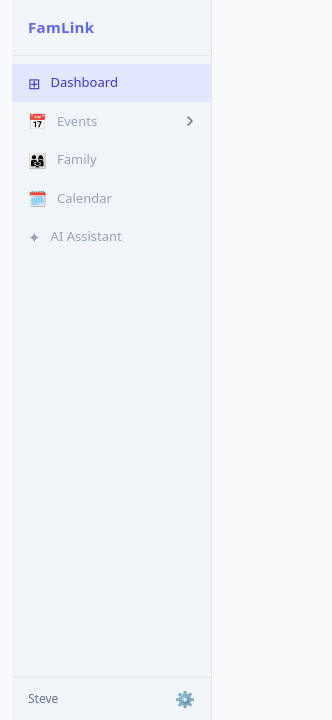
Sidebar › clicking the toggle expands the section
Click the button "📅 Events".
click(112, 121)  # box [12,102,211,140]
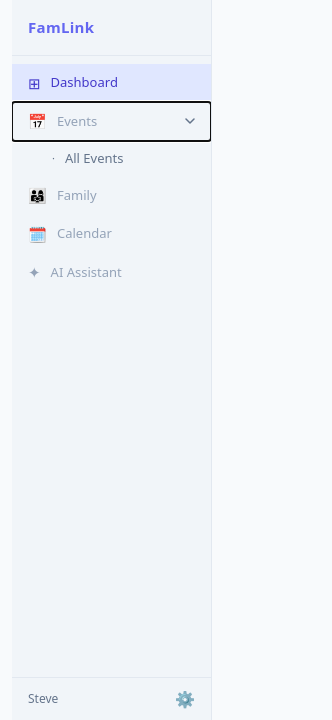
expect the button "📅 Events" is expanded: met, box [12,102,211,140]
